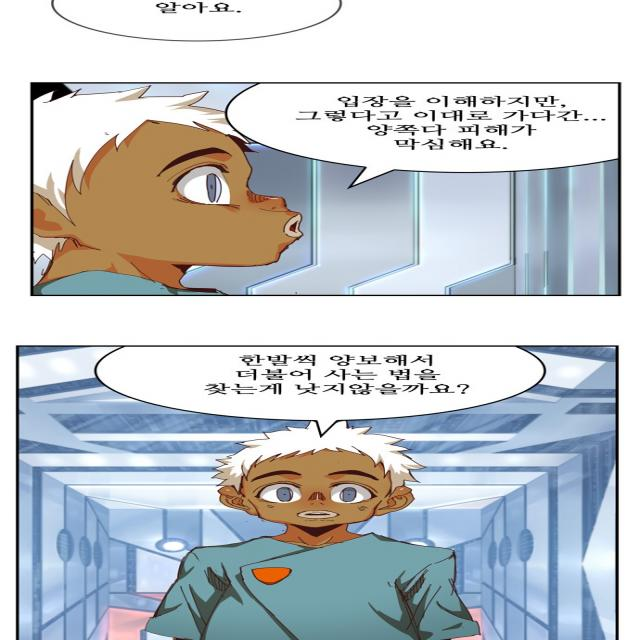Bubble: (223, 81, 620, 174), (89, 343, 548, 421), (47, 0, 346, 43)
